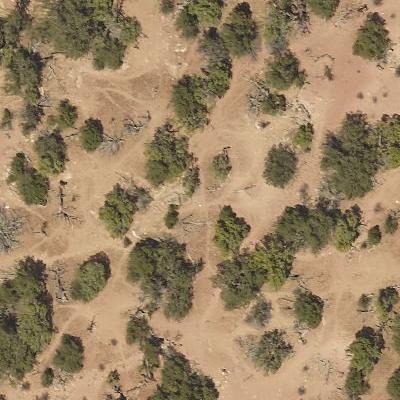tree-top: (321, 115, 375, 198), (125, 233, 191, 292), (143, 128, 195, 187), (157, 355, 219, 400), (215, 260, 267, 311), (2, 45, 46, 103), (46, 2, 90, 56), (14, 294, 57, 349), (272, 203, 325, 247), (170, 83, 215, 134), (88, 0, 120, 70), (70, 252, 114, 301), (246, 328, 290, 376), (95, 188, 138, 237), (345, 325, 385, 376), (219, 9, 261, 57), (352, 15, 395, 61), (211, 207, 250, 257), (126, 236, 167, 283), (261, 51, 305, 94), (32, 133, 71, 179), (262, 145, 299, 190), (372, 114, 400, 172), (328, 211, 366, 249), (1, 342, 39, 380), (259, 4, 295, 43), (9, 259, 46, 296), (117, 311, 153, 348), (54, 332, 89, 370), (292, 291, 327, 329), (261, 252, 296, 290), (190, 27, 228, 60), (0, 8, 30, 48), (206, 57, 237, 94), (375, 278, 400, 323), (49, 98, 82, 130), (159, 290, 194, 320), (20, 173, 51, 206), (5, 146, 35, 179), (76, 119, 106, 151), (224, 3, 256, 32), (119, 12, 143, 50), (205, 151, 234, 182), (190, 0, 226, 24), (176, 6, 200, 41), (304, 0, 340, 21), (340, 376, 372, 398), (291, 123, 317, 150), (140, 339, 165, 365), (36, 365, 60, 389), (361, 222, 384, 247), (0, 274, 16, 305), (381, 211, 400, 235), (0, 103, 15, 131)
